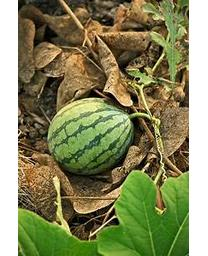watermelon: (46, 96, 133, 178)
